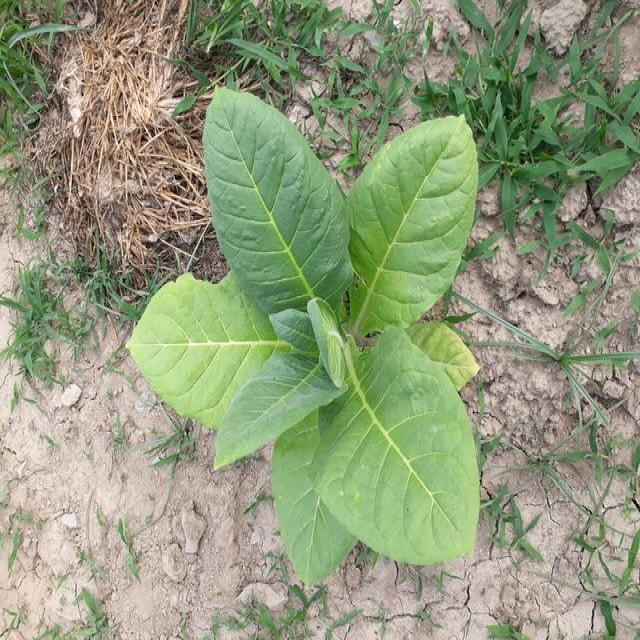crop: (126, 81, 496, 590)
